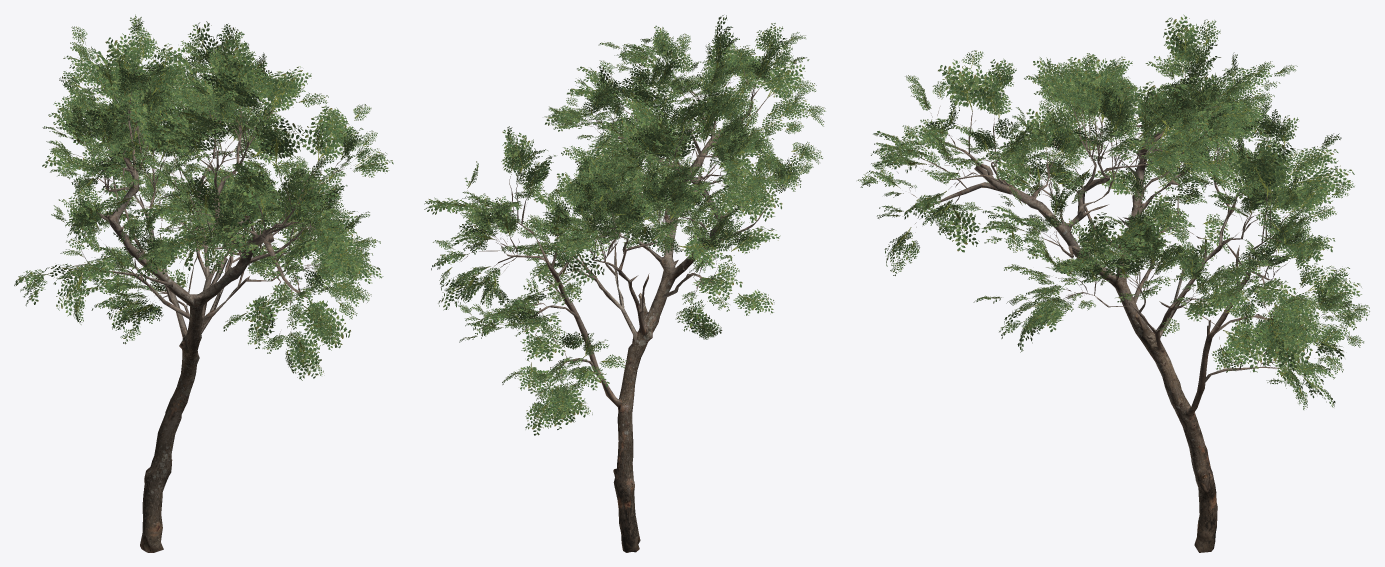
Rendered from NaturalBroadleafUpright.glb.
The picture shows the model from 3 angles, left to right: view 1: azimuth 30°, elevation 25°; view 2: azimuth 150°, elevation 25°; view 3: azimuth 270°, elevation 25°; orthographic projection. The views are drawn at different scales.
Visible parts, largest first — view 1: VANA natural broadleaf, VANA natural broadleaf.001, VANA natural broadleaf.002; view 2: VANA natural broadleaf, VANA natural broadleaf.001, VANA natural broadleaf.002; view 3: VANA natural broadleaf, VANA natural broadleaf.001, VANA natural broadleaf.002.
Boxes of the visible parts, x1,y1,x2,y2 form: VANA natural broadleaf: [14, 14, 393, 380]; VANA natural broadleaf.001: [88, 157, 294, 552]; VANA natural broadleaf.002: [73, 56, 355, 345]; VANA natural broadleaf: [424, 15, 825, 435]; VANA natural broadleaf.001: [536, 121, 742, 552]; VANA natural broadleaf.002: [461, 42, 797, 388]; VANA natural broadleaf: [857, 14, 1369, 409]; VANA natural broadleaf.001: [974, 125, 1251, 552]; VANA natural broadleaf.002: [897, 73, 1349, 383].
Bounding box in the file's own units: 5.14 × 8 × 7.53.
Materials: 3 (3 with a texture image).
